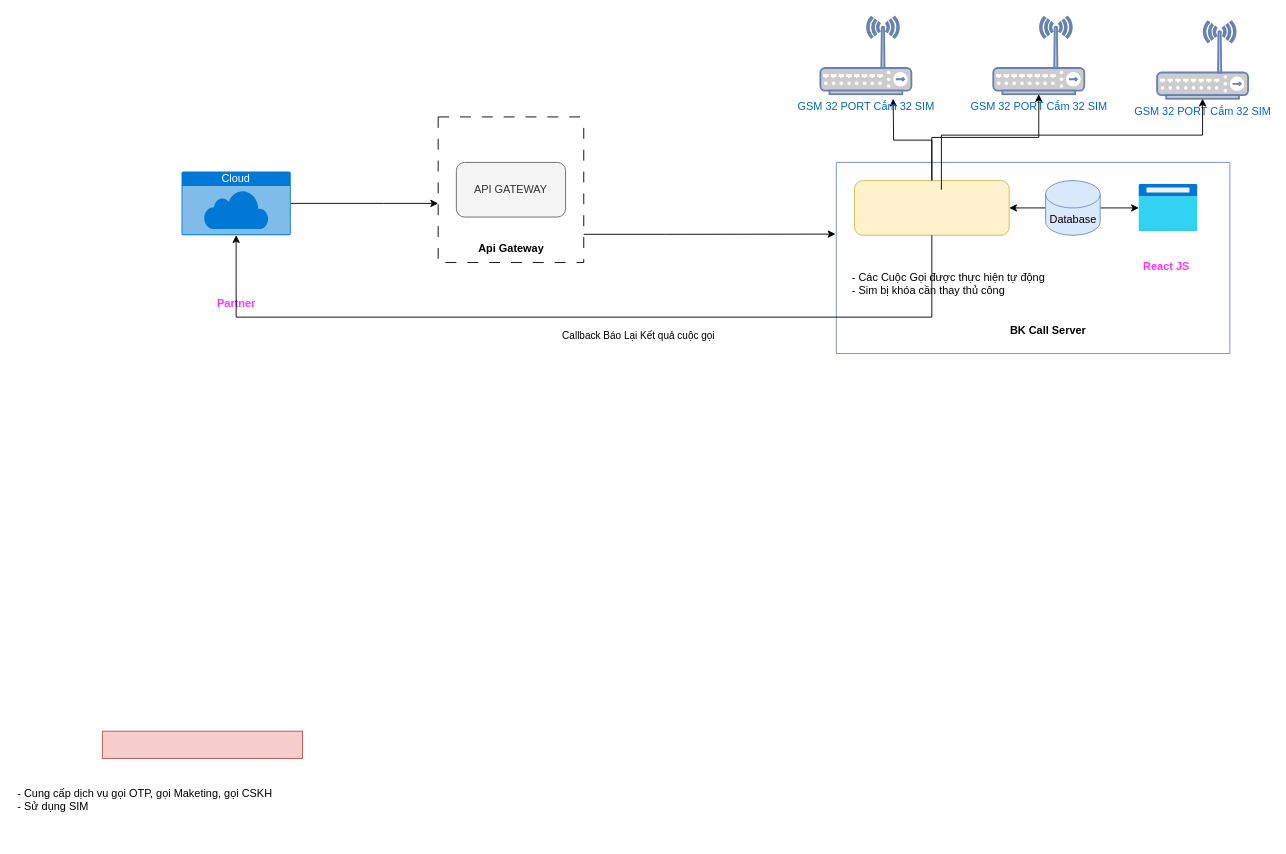
The diagram is 1286 pixels wide and 854 high, and some of its shapes have lost their labels. The centre of each missing label's shape, as x and y in pixels:
"BK Call Service" belongs at point 931,207.
"FE Web quản trị" belongs at point 1168,207.
"TỔNG QUAN HỆ THỐNG BK CALL" belongs at point 202,744.
